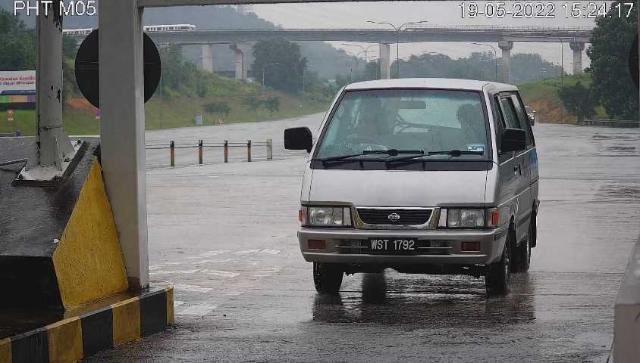License_Plate: (368, 237, 420, 258)
van: (299, 79, 540, 297)
